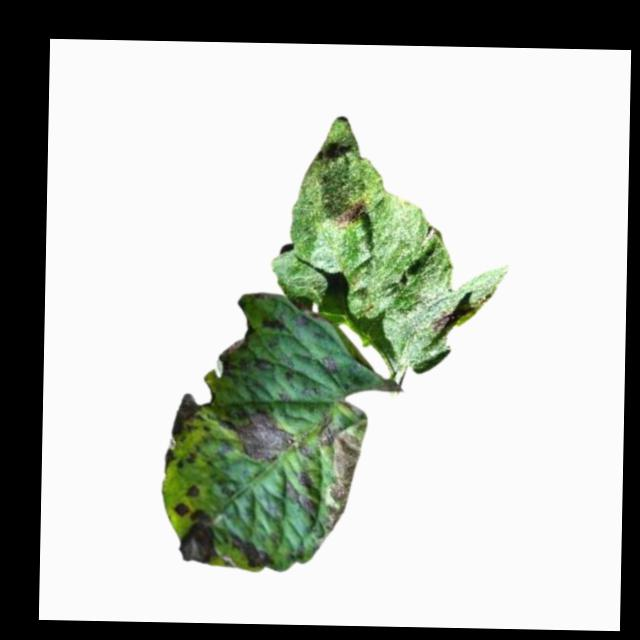Early_blight: (316, 412, 367, 538), (222, 403, 300, 463), (178, 507, 222, 563), (171, 392, 209, 445), (229, 530, 276, 570), (284, 469, 316, 518), (334, 194, 372, 229), (161, 446, 194, 471), (431, 308, 454, 333), (259, 315, 287, 332), (324, 354, 341, 375), (185, 482, 201, 498), (175, 500, 190, 516)
